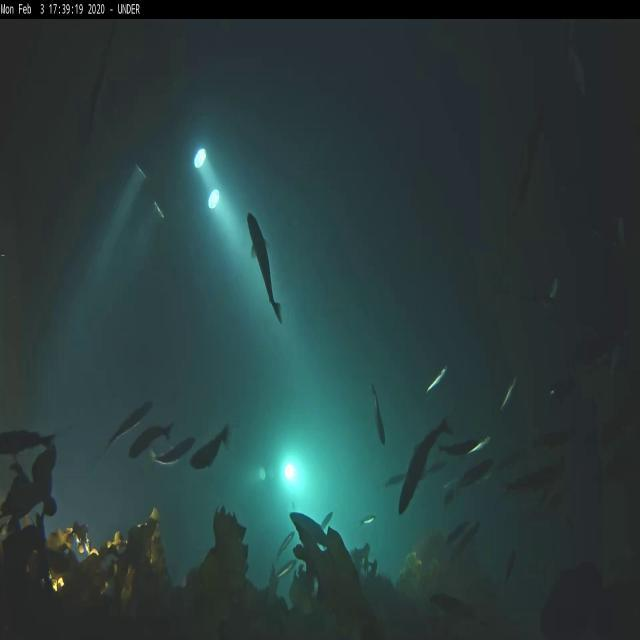fish: (243, 208, 284, 326), (398, 416, 444, 520), (104, 398, 154, 448), (504, 465, 558, 497), (130, 421, 173, 458), (290, 506, 328, 546), (192, 430, 232, 466), (430, 589, 478, 618), (454, 518, 479, 560), (370, 378, 384, 446), (271, 526, 297, 561), (445, 470, 470, 505), (443, 434, 475, 461), (498, 373, 518, 415), (425, 360, 449, 394), (542, 276, 562, 315), (446, 512, 470, 542), (273, 558, 296, 587), (468, 433, 491, 461), (546, 380, 570, 402), (502, 552, 518, 585), (162, 446, 190, 464), (386, 472, 408, 487), (361, 510, 379, 524), (321, 514, 336, 528)
